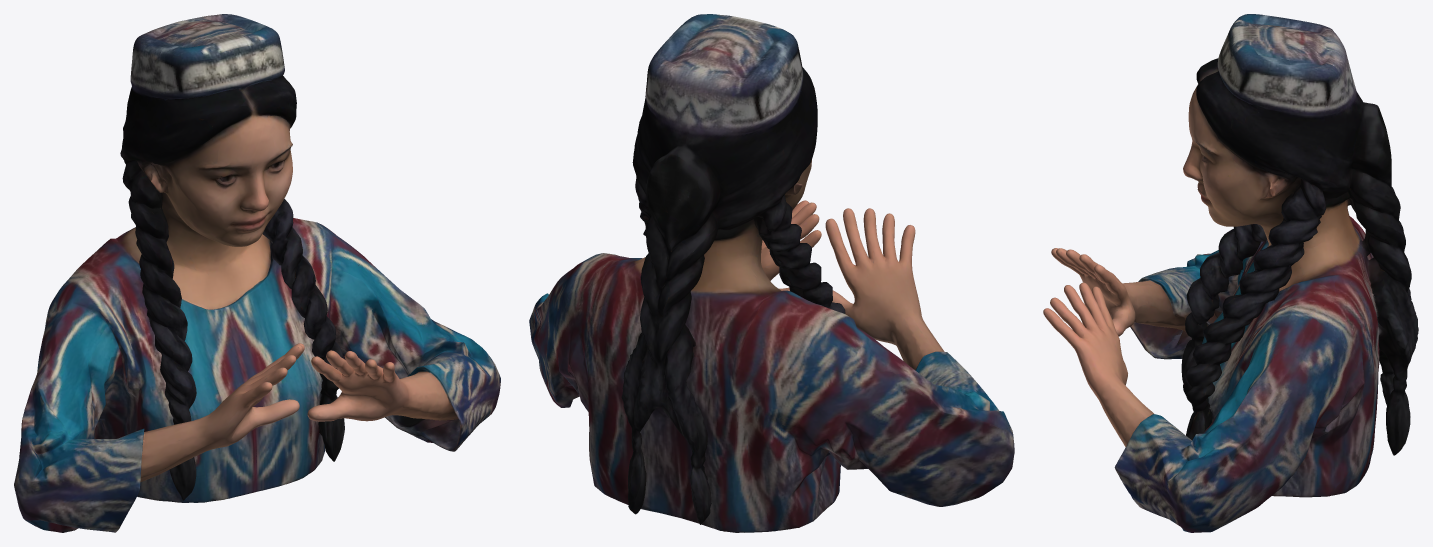
File: women.glb
3 views of the same model, side by side, from view 1: azimuth 30°, elevation 25°; view 2: azimuth 150°, elevation 25°; view 3: azimuth 270°, elevation 25° (orthographic). The views are drawn at different scales.
Visible parts, largest first — view 1: world; view 2: world; view 3: world.
Boxes of the visible parts, box(x1,y1,x2,y2) form: world: box(14, 14, 500, 532); world: box(529, 14, 1014, 532); world: box(1043, 14, 1418, 532).
Size of the model in its own units: 1 by 0.8752 by 0.7137.
Materials: 1 (1 with a texture image).
